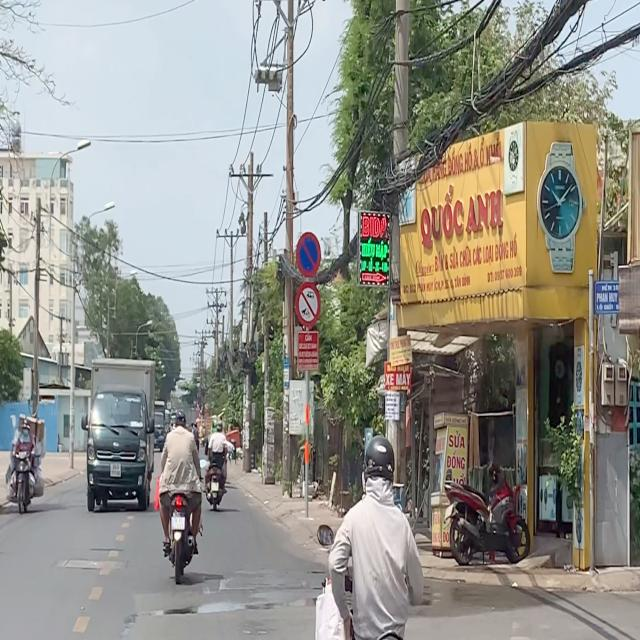Cam con lai: (295, 282, 321, 328)
Cam do: (294, 230, 323, 278)
